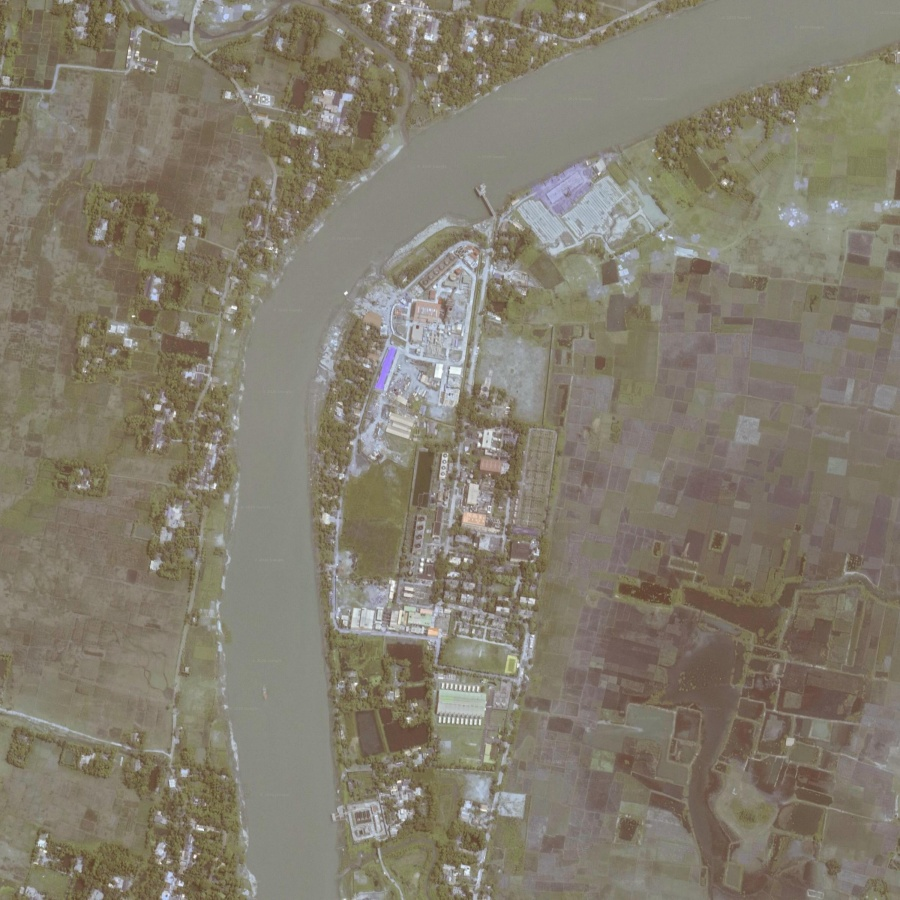PowerPlant: (402, 252, 473, 407)
